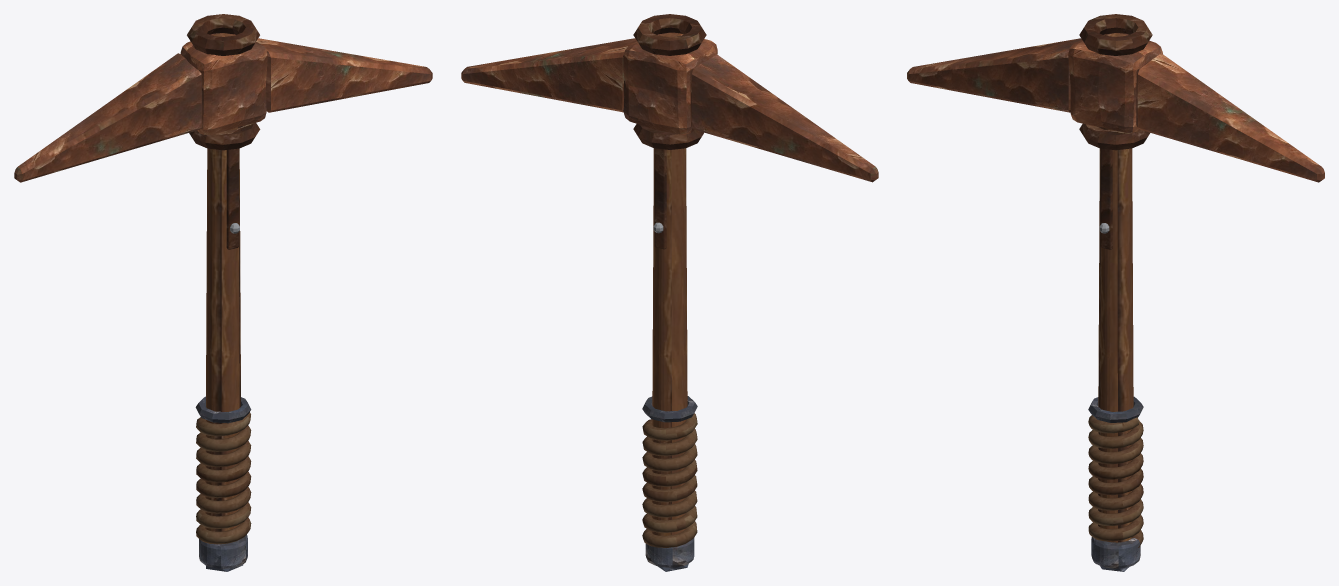
File: pickaxe_copper.glb
3 renders of one model, left to right at view 1: azimuth 30°, elevation 25°; view 2: azimuth 150°, elevation 25°; view 3: azimuth 330°, elevation 25°, orthographic.
Parts seen in each view (by area): view 1: model; view 2: model; view 3: model.
Boxes of the visible parts, x1,y1,x2,y2 form: model: (14, 14, 432, 571); model: (461, 14, 878, 571); model: (907, 14, 1324, 571).
Bounding box in the file's own units: 0.6 × 0.746 × 0.092.
Materials: 8 (7 with a texture image).
